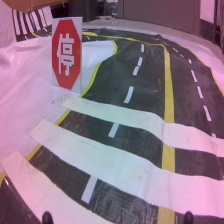stop: (51, 17, 82, 93)
